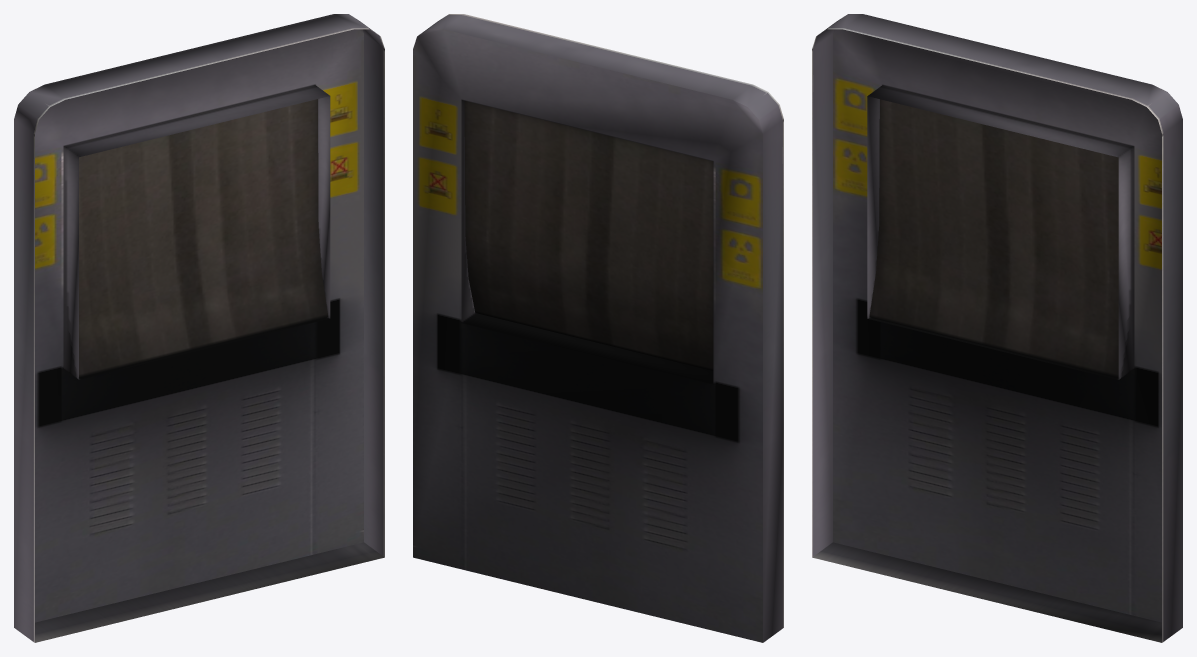
The model's file is bandende.fbx.
3 views of the same model, side by side, from view 1: azimuth 30°, elevation 25°; view 2: azimuth 150°, elevation 25°; view 3: azimuth 330°, elevation 25° (orthographic).
Parts seen in each view (by area): view 1: Mesh; view 2: Mesh; view 3: Mesh.
Boxes of the visible parts, box(x1,y1,x2,y2) form: Mesh: box(14, 14, 384, 642); Mesh: box(413, 14, 783, 642); Mesh: box(812, 14, 1182, 642).
Bounding box in the file's own units: 109 × 160 × 11.25.
